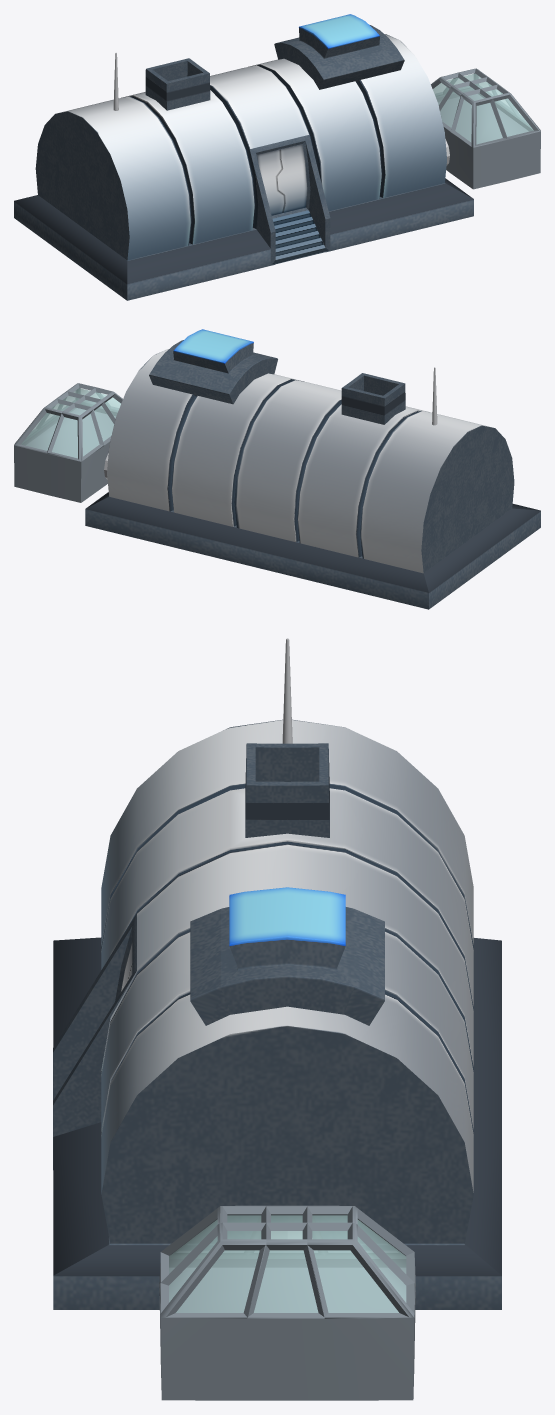
Rendered from Habitat House.fbx.
3 views of the same model, one above another, from view 1: azimuth 30°, elevation 25°; view 2: azimuth 150°, elevation 25°; view 3: azimuth 270°, elevation 25° (orthographic). The views are drawn at different scales.
Visible parts, largest first — view 1: House, Base, Small_Storage, Extra, Glass; view 2: House, Base, Small_Storage, Extra, Glass; view 3: House, Small_Storage, Base, Extra, Glass.
Part boxes in pixels (x1,y1,x2,y2): House: (35, 34, 446, 265); Base: (14, 178, 473, 300); Small_Storage: (431, 68, 540, 189); Extra: (274, 14, 404, 89); Glass: (433, 73, 533, 144); House: (107, 349, 514, 573); Base: (85, 492, 540, 609); Small_Storage: (14, 383, 122, 502); Extra: (149, 329, 277, 404); Glass: (21, 388, 120, 458); House: (53, 719, 473, 1243); Small_Storage: (159, 1205, 415, 1400); Base: (53, 937, 501, 1309); Extra: (190, 887, 384, 1025); Glass: (169, 1215, 406, 1312).
Size of the model in its own units: 5.43 by 2.27 by 2.41.
